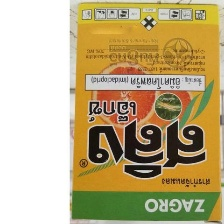book: (69, 1, 224, 224)
